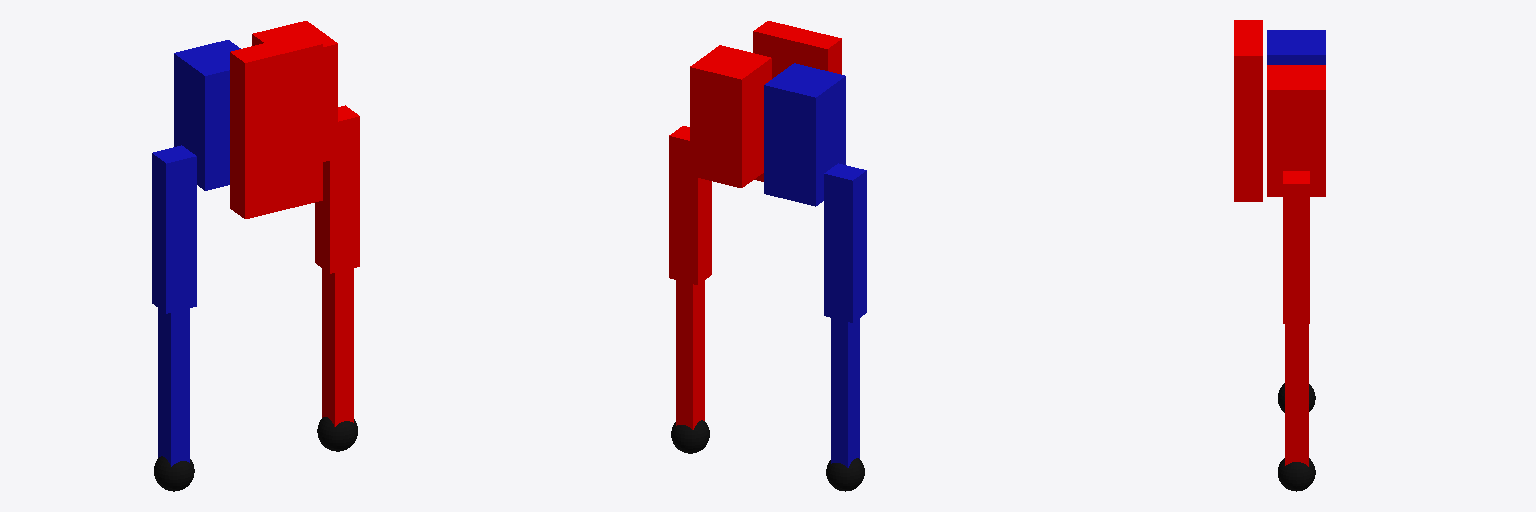
The robot description file, URDF, robot "tiptap":
<?xml version="1.0" encoding="utf-8"?>
<!-- =================================================================================== -->
<!-- |    This document was autogenerated by xacro from tiptap_xacro.xml               | -->
<!-- |    EDITING THIS FILE BY HAND IS NOT RECOMMENDED                                 | -->
<!-- =================================================================================== -->
<robot name="tiptap" xmlns:xacro="http://www.ros.org/wiki/xacro">
  <!-- Command to generate the urdf: "rosrun xacro xacro tiptap_xacro.xml > tiptap.urdf" -->
  <!-- ################################## -->
  <!-- #### macros and definitions: ##### -->
  <!-- ################################## -->
  <material name="red">
    <color rgba="1 0 0 1"/>
  </material>
  <material name="black">
    <color rgba="0.1 0.1 0.1 1"/>
  </material>
  <material name="blue">
    <color rgba="0.1 0.1 0.8 1"/>
  </material>
  <link name="torso">
    <visual>
      <geometry>
        <box size="0.067 0.023 0.128"/>
      </geometry>
      <origin rpy="0 0 0" xyz="0 0 0"/>
      <material name="red"/>
    </visual>
    <collision>
      <geometry>
        <box size="0.0402 0.0138 0.0768"/>
      </geometry>
      <origin rpy="0 0 0" xyz="0 0 0"/>
      <!-- <contact_coefficients mu="0.08" /> -->
    </collision>
    <inertial>
      <origin rpy="1.57079632679 0 0" xyz="0 0 0"/>
      <mass value="0.1556"/>
      <inertia ixx="0.000219305233333" ixy="0.0" ixz="0.0" iyy="0.000270653233333" iyz="0.0" izz="6.50667333333e-05"/>
    </inertial>
  </link>
  <link name="hip_right">
    <visual>
      <geometry>
        <box size="0.047 0.047 0.094"/>
      </geometry>
      <origin rpy="0 0 0" xyz="0 0 0.047"/>
      <material name="red"/>
    </visual>
    <collision>
      <geometry>
        <box size="0.0282 0.0282 0.0564"/>
      </geometry>
      <origin rpy="0 0 0" xyz="0 0 0.047"/>
      <!-- <contact_coefficients mu="0.08" /> -->
    </collision>
    <inertial>
      <origin rpy="0 0 0" xyz="0 0 0.047"/>
      <mass value="0.1945"/>
      <inertia ixx="0.000179021041667" ixy="0.0" ixz="0.0" iyy="0.000179021041667" iyz="0.0" izz="7.16084166667e-05"/>
    </inertial>
  </link>
  <link name="hip_left">
    <visual>
      <geometry>
        <box size="0.047 0.047 0.094"/>
      </geometry>
      <origin rpy="0 0 0" xyz="0 0 0.047"/>
      <material name="blue"/>
    </visual>
    <collision>
      <geometry>
        <box size="0.0282 0.0282 0.0564"/>
      </geometry>
      <origin rpy="0 0 0" xyz="0 0 0.047"/>
      <!-- <contact_coefficients mu="0.08" /> -->
    </collision>
    <inertial>
      <origin rpy="0 0 0" xyz="0 0 0.047"/>
      <mass value="0.1945"/>
      <inertia ixx="0.000179021041667" ixy="0.0" ixz="0.0" iyy="0.000179021041667" iyz="0.0" izz="7.16084166667e-05"/>
    </inertial>
  </link>
  <link name="upper_leg_right">
    <visual>
      <geometry>
        <box size="0.026 0.022 0.123"/>
      </geometry>
      <origin rpy="0 0 0" xyz="0 0 -0.0615"/>
      <material name="red"/>
    </visual>
    <collision>
      <geometry>
        <box size="0.0156 0.0132 0.0738"/>
      </geometry>
      <origin rpy="0 0 0" xyz="0 0 -0.0615"/>
      <!-- <contact_coefficients mu="0.08" /> -->
    </collision>
    <inertial>
      <origin rpy="0 0 0" xyz="0 0 -0.0615"/>
      <mass value="0.05835"/>
      <inertia ixx="7.59182125e-05" ixy="0.0" ixz="0.0" iyy="7.68518125e-05" iyz="0.0" izz="5.6405e-06"/>
    </inertial>
  </link>
  <link name="upper_leg_left">
    <visual>
      <geometry>
        <box size="0.026 0.022 0.123"/>
      </geometry>
      <origin rpy="0 0 0" xyz="0 0 -0.0615"/>
      <material name="blue"/>
    </visual>
    <collision>
      <geometry>
        <box size="0.0156 0.0132 0.0738"/>
      </geometry>
      <origin rpy="0 0 0" xyz="0 0 -0.0615"/>
      <!-- <contact_coefficients mu="0.08" /> -->
    </collision>
    <inertial>
      <origin rpy="0 0 0" xyz="0 0 -0.0615"/>
      <mass value="0.05835"/>
      <inertia ixx="7.59182125e-05" ixy="0.0" ixz="0.0" iyy="7.68518125e-05" iyz="0.0" izz="5.6405e-06"/>
    </inertial>
  </link>
  <link name="lower_leg_right">
    <visual>
      <geometry>
        <box size="0.016 0.019 0.136"/>
      </geometry>
      <origin rpy="0 0 0" xyz="0 0 -0.068"/>
      <material name="red"/>
    </visual>
    <collision>
      <geometry>
        <box size="0.0096 0.0114 0.0816"/>
      </geometry>
      <origin rpy="0 0 0" xyz="0 0 -0.068"/>
      <!-- <contact_coefficients mu="0.08" /> -->
    </collision>
    <inertial>
      <origin rpy="0 0 0" xyz="0 0 -0.068"/>
      <mass value="0.05835"/>
      <inertia ixx="9.16921625e-05" ixy="0.0" ixz="0.0" iyy="9.11816e-05" iyz="0.0" izz="3.0001625e-06"/>
    </inertial>
  </link>
  <link name="lower_leg_left">
    <visual>
      <geometry>
        <box size="0.016 0.019 0.136"/>
      </geometry>
      <origin rpy="0 0 0" xyz="0 0 -0.068"/>
      <material name="blue"/>
    </visual>
    <collision>
      <geometry>
        <box size="0.0096 0.0114 0.0816"/>
      </geometry>
      <origin rpy="0 0 0" xyz="0 0 -0.068"/>
      <!-- <contact_coefficients mu="0.08" /> -->
    </collision>
    <inertial>
      <origin rpy="0 0 0" xyz="0 0 -0.068"/>
      <mass value="0.05835"/>
      <inertia ixx="9.16921625e-05" ixy="0.0" ixz="0.0" iyy="9.11816e-05" iyz="0.0" izz="3.0001625e-06"/>
    </inertial>
  </link>
  <link name="right_foot">
    <visual>
      <geometry>
        <sphere radius="0.0152"/>
      </geometry>
      <material name="black"/>
    </visual>
    <collision>
      <geometry>
        <sphere radius="0.0152"/>
      </geometry>
      <!-- <contact_coefficients mu="0.08" /> -->
    </collision>
    <inertial>
      <origin rpy="0 0 0" xyz="0 0 0"/>
      <mass value="0"/>
      <inertia ixx="1.0" ixy="0.0" ixz="0.0" iyy="1.0" iyz="0.0" izz="1.0"/>
    </inertial>
  </link>
  <link name="left_foot">
    <visual>
      <geometry>
        <sphere radius="0.0152"/>
      </geometry>
      <material name="black"/>
    </visual>
    <collision>
      <geometry>
        <sphere radius="0.0152"/>
      </geometry>
      <!-- <contact_coefficients mu="0.08" /> -->
    </collision>
    <inertial>
      <origin rpy="0 0 0" xyz="0 0 0"/>
      <mass value="0"/>
      <inertia ixx="1.0" ixy="0.0" ixz="0.0" iyy="1.0" iyz="0.0" izz="1.0"/>
    </inertial>
  </link>
  <!-- ############################### -->
  <!-- ############ joints: ########### -->
  <!-- ############################### -->
  <joint name="RightServo" type="revolute">
    <parent link="torso"/>
    <child link="hip_right"/>
    <axis xyz="0 1 0"/>
    <origin rpy="0 0.0 0" xyz="0.0382 0.0385 -0.047"/>
    <dynamics damping="0.01" friction="0.01"/>
    <limit effort="100" lower="-0.305432619099" upper="0.343829862643" velocity="100"/>
  </joint>
  <joint name="RightHip" type="revolute">
    <parent link="hip_right"/>
    <child link="upper_leg_right"/>
    <axis xyz="1 0 0"/>
    <origin rpy="0.0 0 0" xyz="0.0365 0 0.0235"/>
    <dynamics damping="0.01" friction="0.01"/>
    <limit effort="100" lower="-2.09439510239" upper="2.09439510239" velocity="100"/>
  </joint>
  <joint name="RightKnee" type="revolute">
    <parent link="upper_leg_right"/>
    <child link="lower_leg_right"/>
    <axis xyz="1 0 0"/>
    <origin rpy="0.0 0 0" xyz="0 0 -0.123"/>
    <dynamics damping="0.01" friction="0.01"/>
    <limit effort="100" lower="-2.09439510239" upper="2.09439510239" velocity="100"/>
  </joint>
  <joint name="LeftServo" type="revolute">
    <parent link="torso"/>
    <child link="hip_left"/>
    <axis xyz="0 1 0"/>
    <origin rpy="0 0.0 0" xyz="-0.0288 0.0385 -0.047"/>
    <dynamics damping="0.01" friction="0.01"/>
    <limit effort="100" lower="-0.305432619099" upper="0.343829862643" velocity="100"/>
  </joint>
  <joint name="LeftHip" type="revolute">
    <parent link="hip_left"/>
    <child link="upper_leg_left"/>
    <axis xyz="1 0 0"/>
    <origin rpy="0.0 0 0" xyz="-0.0365 0 0.0235"/>
    <dynamics damping="0.01" friction="0.01"/>
    <limit effort="100" lower="-2.09439510239" upper="2.09439510239" velocity="100"/>
  </joint>
  <joint name="LeftKnee" type="revolute">
    <parent link="upper_leg_left"/>
    <child link="lower_leg_left"/>
    <axis xyz="1 0 0"/>
    <origin rpy="0.0 0 0" xyz="0 0 -0.123"/>
    <dynamics damping="0.01" friction="0.01"/>
    <limit effort="100" lower="-2.09439510239" upper="2.09439510239" velocity="100"/>
  </joint>
  <joint name="LeftFoot" type="fixed">
    <parent link="lower_leg_left"/>
    <child link="left_foot"/>
    <origin rpy="0 0 0" xyz="0 0 -0.136"/>
  </joint>
  <joint name="RightFoot" type="fixed">
    <parent link="lower_leg_right"/>
    <child link="right_foot"/>
    <origin rpy="0 0 0" xyz="0 0 -0.136"/>
  </joint>
</robot>

--- Render facts (derived) ---
Views: 3 orthographic renders of the robot side by side, from view 1: azimuth 30°, elevation 25°; view 2: azimuth 150°, elevation 25°; view 3: azimuth 270°, elevation 25°.
Model tiptap with 9 links and 8 joints (6 revolute, 2 fixed), rooted at torso, posed all joints at 0.
Visible links, largest first — view 1: torso, upper_leg_left, hip_left, upper_leg_right, lower_leg_right, lower_leg_left, hip_right, left_foot, right_foot; view 2: hip_left, hip_right, upper_leg_left, upper_leg_right, lower_leg_left, lower_leg_right, torso, right_foot, left_foot; view 3: hip_right, torso, upper_leg_right, lower_leg_right, hip_left, right_foot.
Link boxes in pixels (left/top/right/bottom): torso: left=230, top=33, right=322, bottom=218; upper_leg_left: left=152, top=145, right=196, bottom=313; hip_left: left=174, top=40, right=240, bottom=190; upper_leg_right: left=315, top=105, right=359, bottom=273; lower_leg_right: left=322, top=268, right=353, bottom=426; lower_leg_left: left=158, top=308, right=189, bottom=466; hip_right: left=252, top=21, right=337, bottom=161; left_foot: left=154, top=456, right=194, bottom=491; right_foot: left=317, top=417, right=357, bottom=451; hip_left: left=764, top=63, right=845, bottom=206; hip_right: left=690, top=45, right=771, bottom=187; upper_leg_left: left=824, top=163, right=866, bottom=322; upper_leg_right: left=669, top=126, right=711, bottom=284; lower_leg_left: left=831, top=318, right=859, bottom=467; lower_leg_right: left=676, top=280, right=704, bottom=429; torso: left=753, top=21, right=841, bottom=181; right_foot: left=671, top=420, right=709, bottom=453; left_foot: left=826, top=458, right=864, bottom=491; hip_right: left=1267, top=65, right=1325, bottom=196; torso: left=1234, top=20, right=1262, bottom=201; upper_leg_right: left=1283, top=171, right=1309, bottom=323; lower_leg_right: left=1285, top=324, right=1308, bottom=466; hip_left: left=1267, top=30, right=1325, bottom=64; right_foot: left=1278, top=458, right=1315, bottom=491.
Bounding box of the posed robot: 0.1704 × 0.0735 × 0.3617 m (x, y, z).
Geometry: primitives only (box / cylinder / sphere), no mesh files.